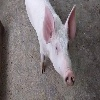heo: (37, 2, 79, 85)
